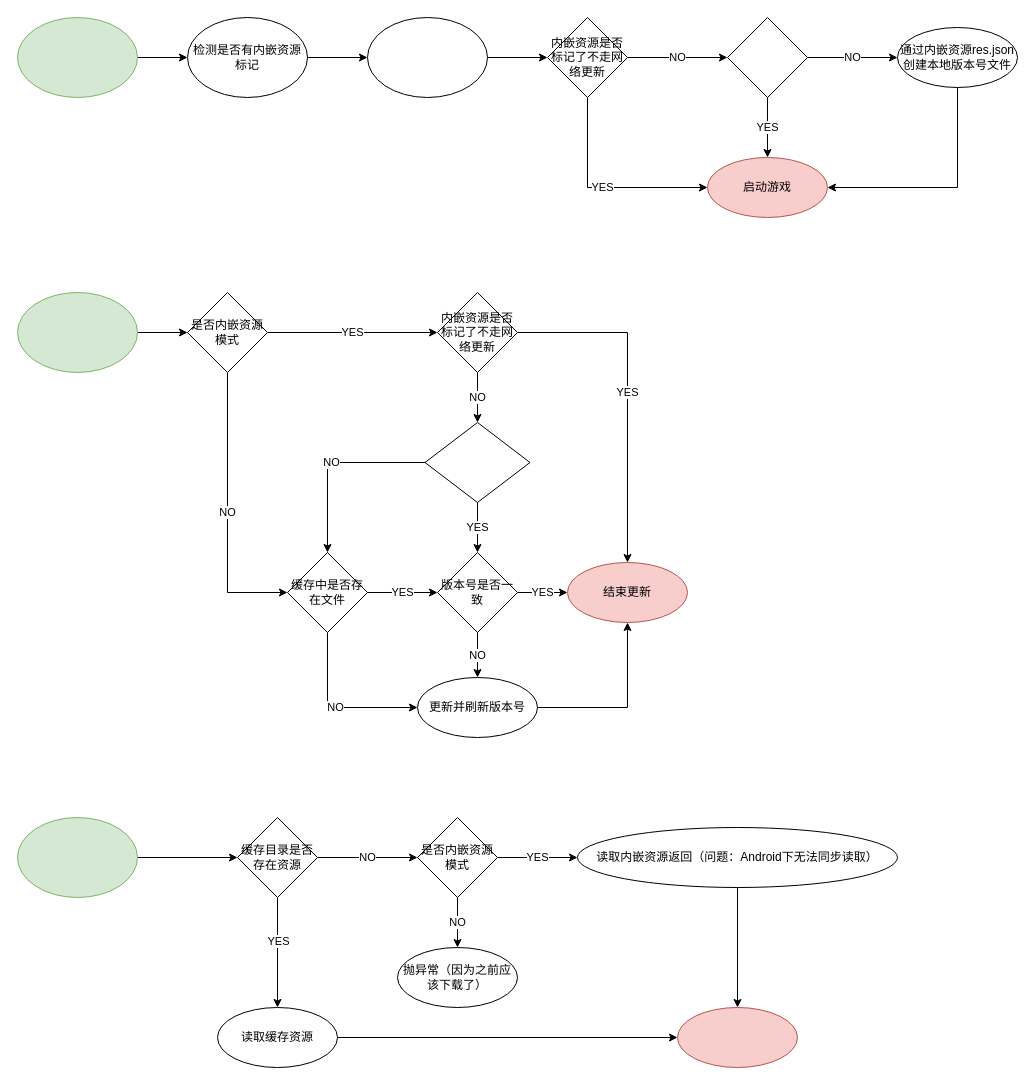
Some shapes in this 1035 by 1085 pixel diagram are drawn without their labels. The centre of each missing label's shape, as x and y in pixels:
加载资源: (x=77, y=857)
启动APP: (x=77, y=57)
是否有本地版本号文件: (x=767, y=57)
更新资源检查: (x=77, y=332)
标记项目为内嵌资源模式: (x=427, y=57)
资源是否存在内嵌中 （游戏中按需下载部分可能不内嵌）: (x=477, y=462)
返回资源: (x=737, y=1037)
